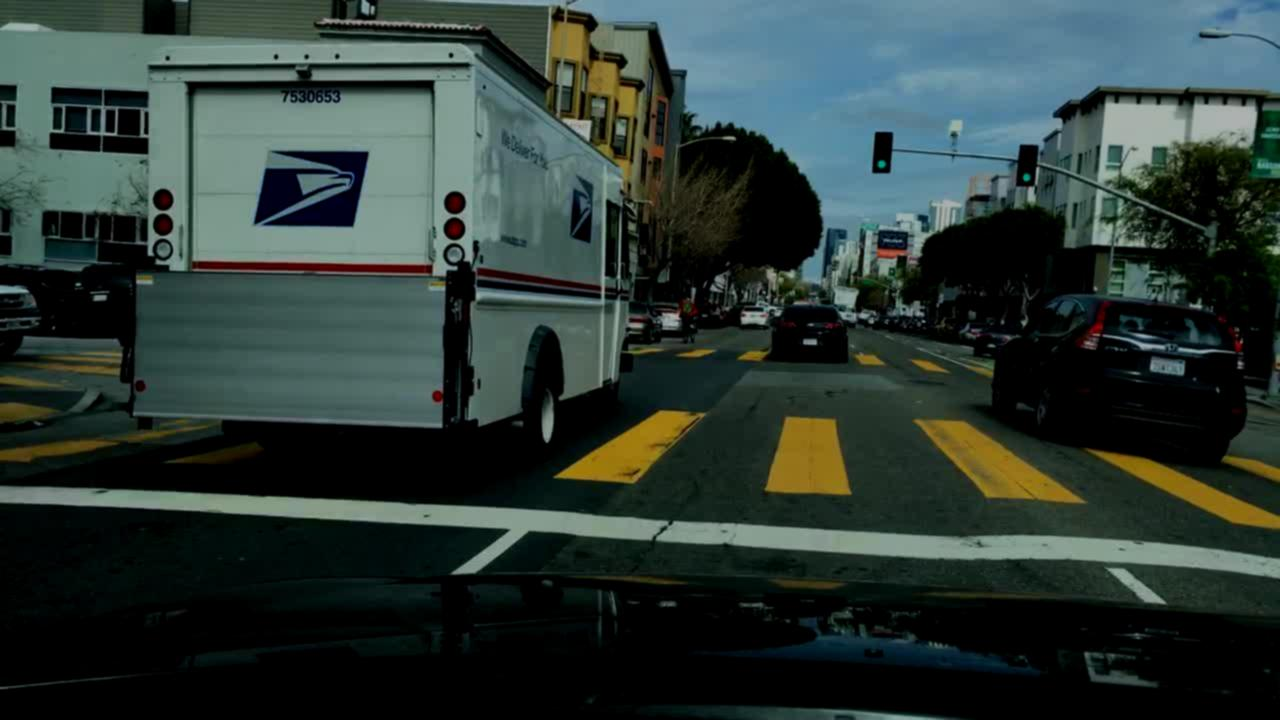Honda: (1161, 336, 1181, 359)
